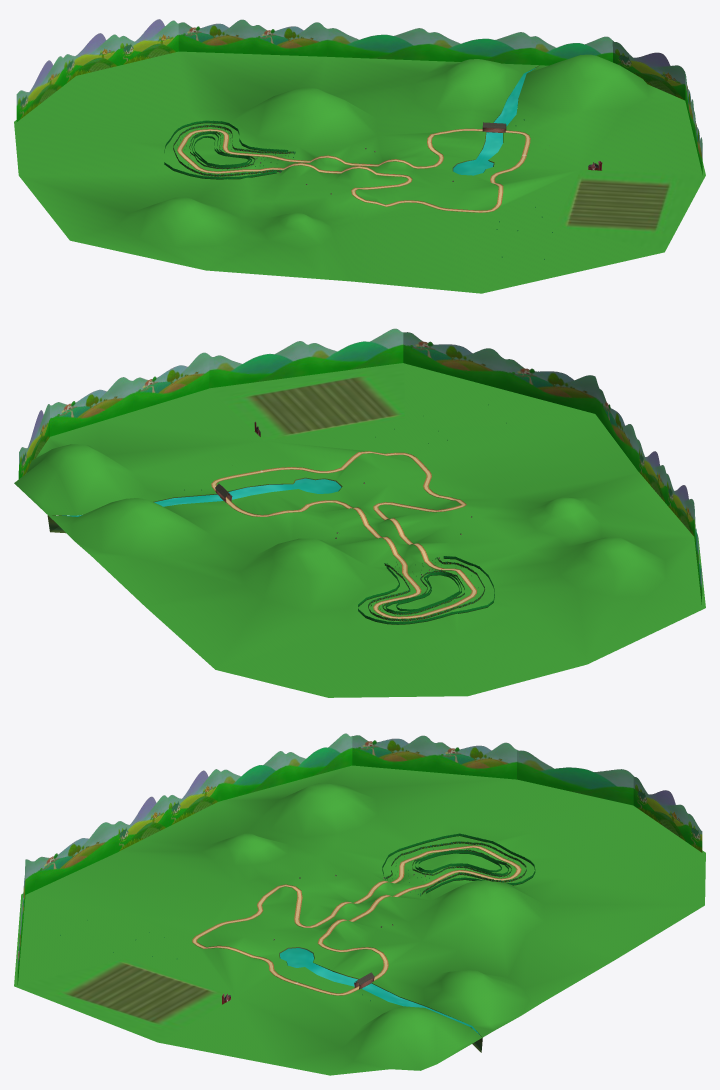
The model's file is rural_b2.glb.
3 renders of one model, top to bottom at view 1: azimuth 30°, elevation 25°; view 2: azimuth 150°, elevation 25°; view 3: azimuth 270°, elevation 25°, orthographic. The views are drawn at different scales.
Visible parts, largest first — view 1: rural2_all, background1, field, track, water_top1, tree_row2, fence2, tree_row4, fence1, water_top2; view 2: rural2_all, background1, field, track, water_top1, tree_row2, fence2, tree_row4, fence1; view 3: rural2_all, background1, field, track, water_top1, tree_row2, fence2, tree_row4, water_top2, fence1.
Boxes of the visible parts, x1,y1,x2,y2 form: rural2_all: (14, 51, 705, 293); background1: (16, 19, 702, 174); field: (555, 169, 705, 251); track: (177, 129, 530, 212); water_top1: (453, 132, 502, 175); tree_row2: (164, 120, 288, 179); fence2: (182, 130, 524, 210); tree_row4: (173, 124, 293, 176); fence1: (177, 128, 529, 212); water_top2: (493, 68, 535, 126); rural2_all: (14, 363, 705, 697); background1: (18, 328, 702, 604); field: (209, 363, 404, 440); track: (211, 451, 476, 618); water_top1: (228, 478, 341, 499); tree_row2: (358, 556, 494, 624); fence2: (216, 453, 470, 616); tree_row4: (368, 557, 484, 621); fence1: (212, 451, 474, 618); rural2_all: (14, 765, 705, 1075); background1: (17, 733, 702, 984); field: (14, 958, 235, 1042); track: (192, 845, 521, 995); water_top1: (280, 948, 357, 986); tree_row2: (382, 833, 535, 893); fence2: (197, 847, 516, 993); tree_row4: (385, 841, 526, 894); water_top2: (362, 983, 479, 1034); fence1: (192, 845, 520, 995).
Size of the model in its own units: 13543 by 1127 by 12712.
Materials: 39 (39 with a texture image).
